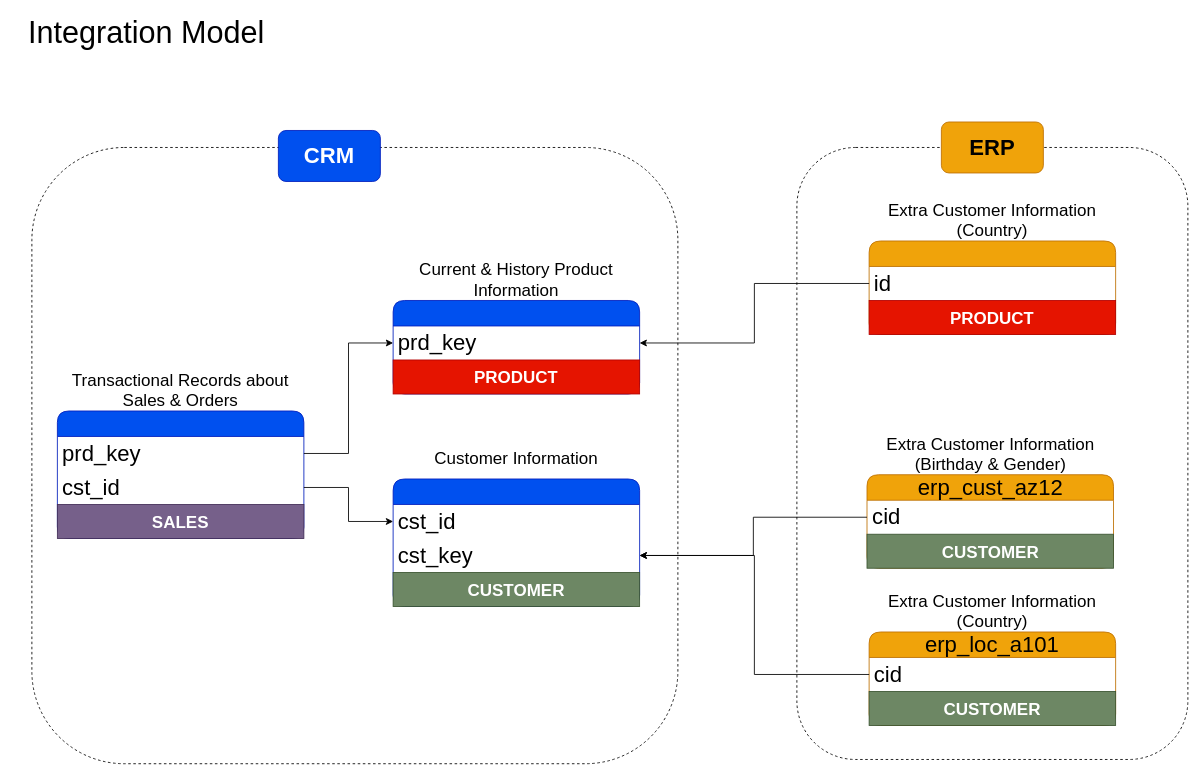
This 1203x779 diagram has some shape labels left out. Each missing label, with the box of its shape:
crm_cust_info: (392, 478, 640, 606)
crm_prd_info: (392, 300, 640, 394)
crm_sales_details: (57, 410, 304, 538)
erp_px_cat_g1v2: (868, 240, 1116, 334)
